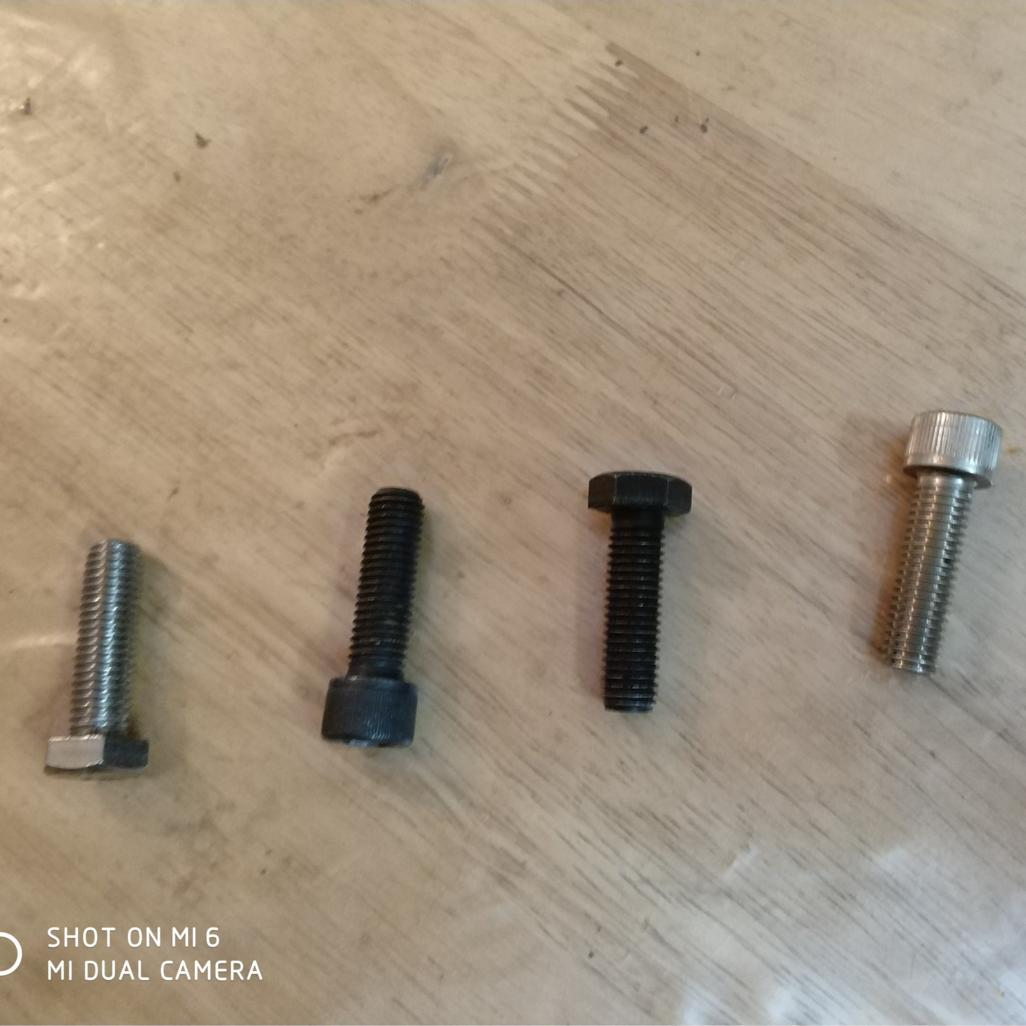screwtype1black: (284, 471, 453, 778)
screwtype1silver: (852, 395, 1012, 703)
screwtype2black: (539, 462, 719, 746)
screwtype2silver: (22, 508, 171, 798)
